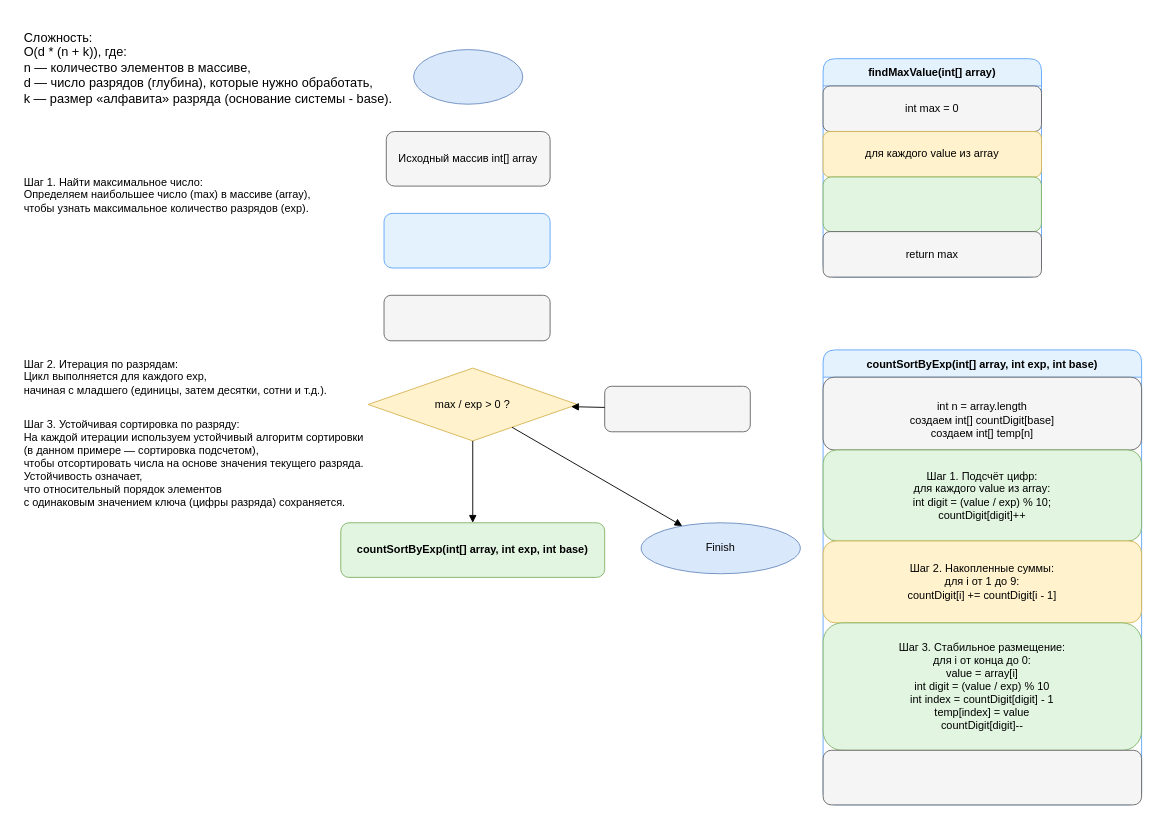
Image size: 1158x821. Some labels were removed from this diagram. Each missing label, with the centre of its shape:
"exp *= base" belongs at (677,408).
"int base = 10 int max = findMaxValue(array)" belongs at (466,240).
"int exp = 1" belongs at (466,317).
"Start" belongs at (468,76).
"если value > max: max = value" belongs at (931,204).
"Шаг 4. Копируем temp обратно в array" belongs at (982,777).
